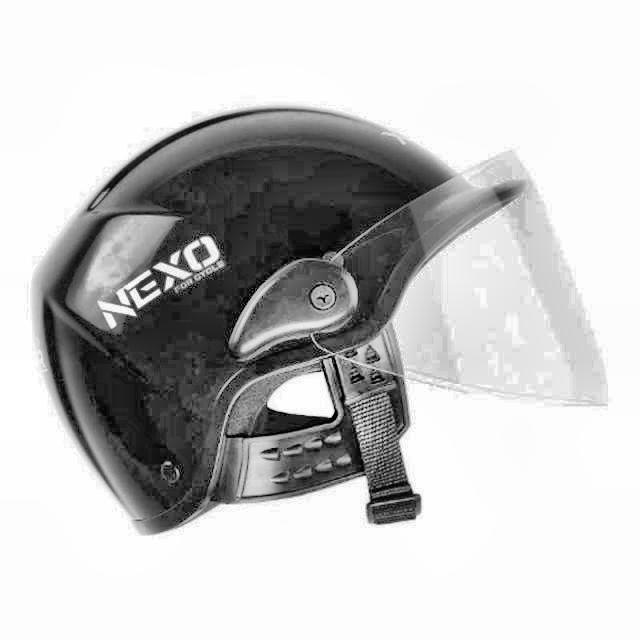Helmet: (21, 91, 626, 542)
